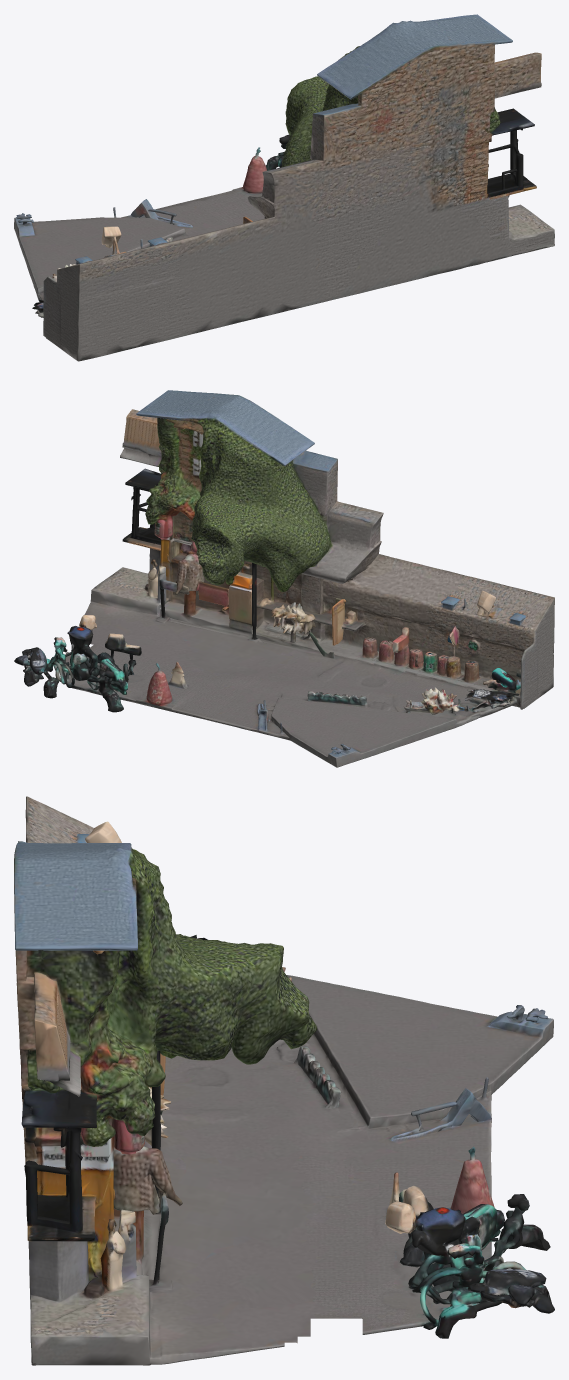
File: detail.glb
3 renders of one model, top to bottom at view 1: azimuth 30°, elevation 25°; view 2: azimuth 150°, elevation 25°; view 3: azimuth 270°, elevation 25°, orthographic. The views are drawn at different scales.
Visible parts, largest first — view 1: wudaoying/tripo_node_03c2d11e-c742-4df1-8693-452aa1b21051; view 2: wudaoying/tripo_node_03c2d11e-c742-4df1-8693-452aa1b21051; view 3: wudaoying/tripo_node_03c2d11e-c742-4df1-8693-452aa1b21051.
Part boxes in pixels (x1,y1,x2,y2): wudaoying/tripo_node_03c2d11e-c742-4df1-8693-452aa1b21051: (14,14,554,361); wudaoying/tripo_node_03c2d11e-c742-4df1-8693-452aa1b21051: (14,390,554,767); wudaoying/tripo_node_03c2d11e-c742-4df1-8693-452aa1b21051: (14,796,554,1365).
Size of the model in its own units: 1.1 by 0.5211 by 0.6278.
Materials: 1 (1 with a texture image).
